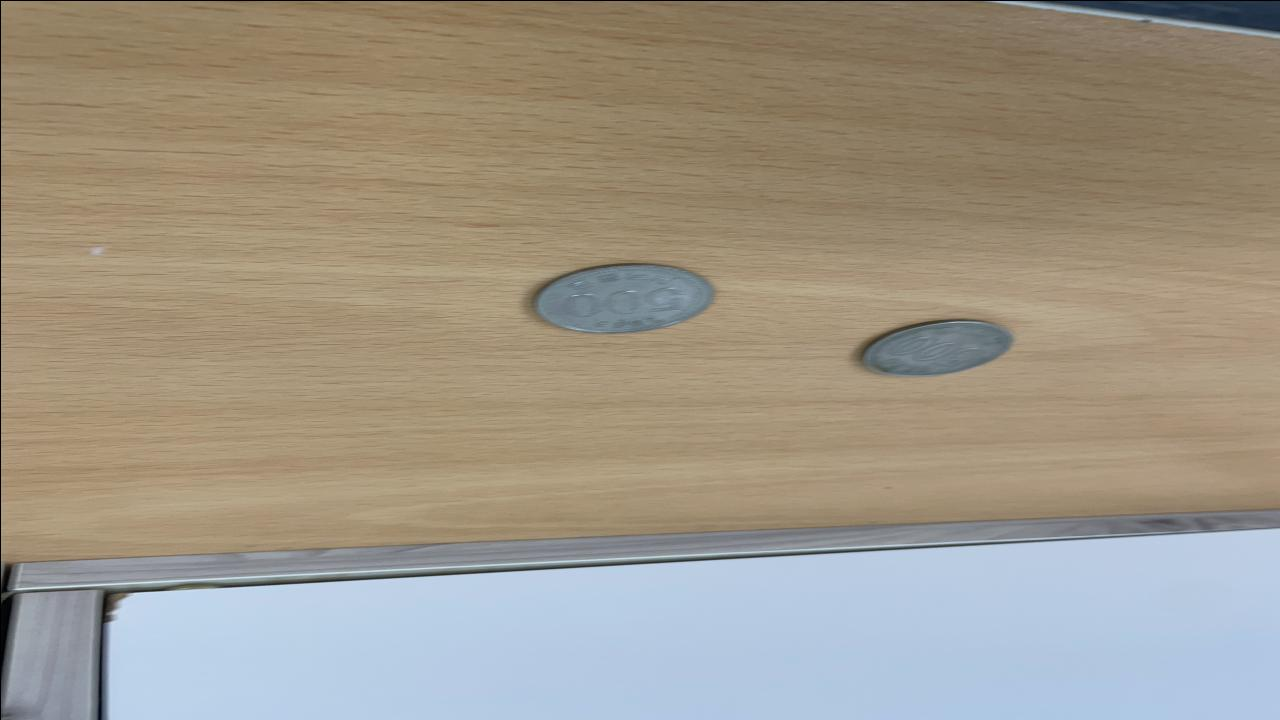coin: (532, 262, 718, 334), (853, 316, 1020, 380)
